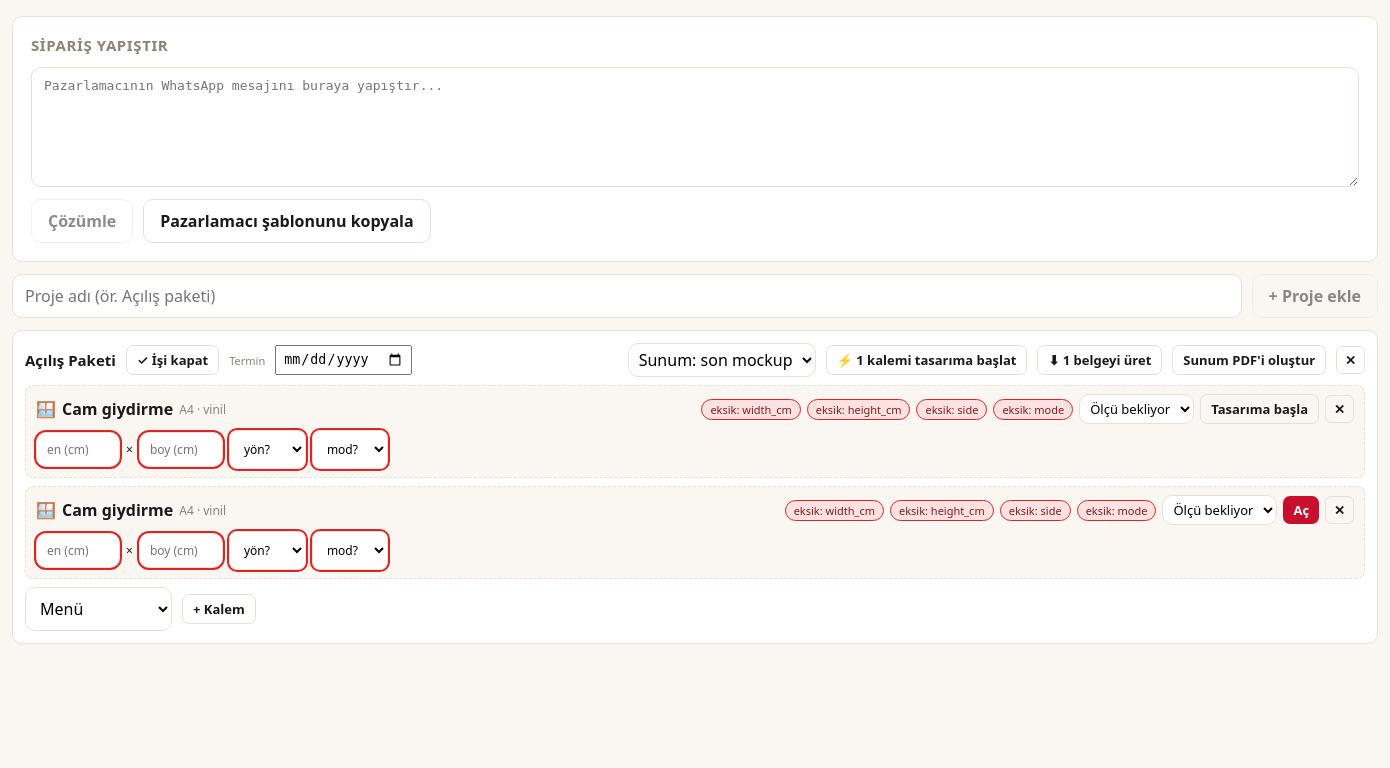
Test: toplu başlatma sonucu › ZATEN TASARIMDAKİ kalem panelde LİSTELENMEZ — gerçek sorunları gömerdi
Click the button "⚡ 1 kalemi tasarıma başlat".
click(927, 360)  # box [826,345,1028,375]
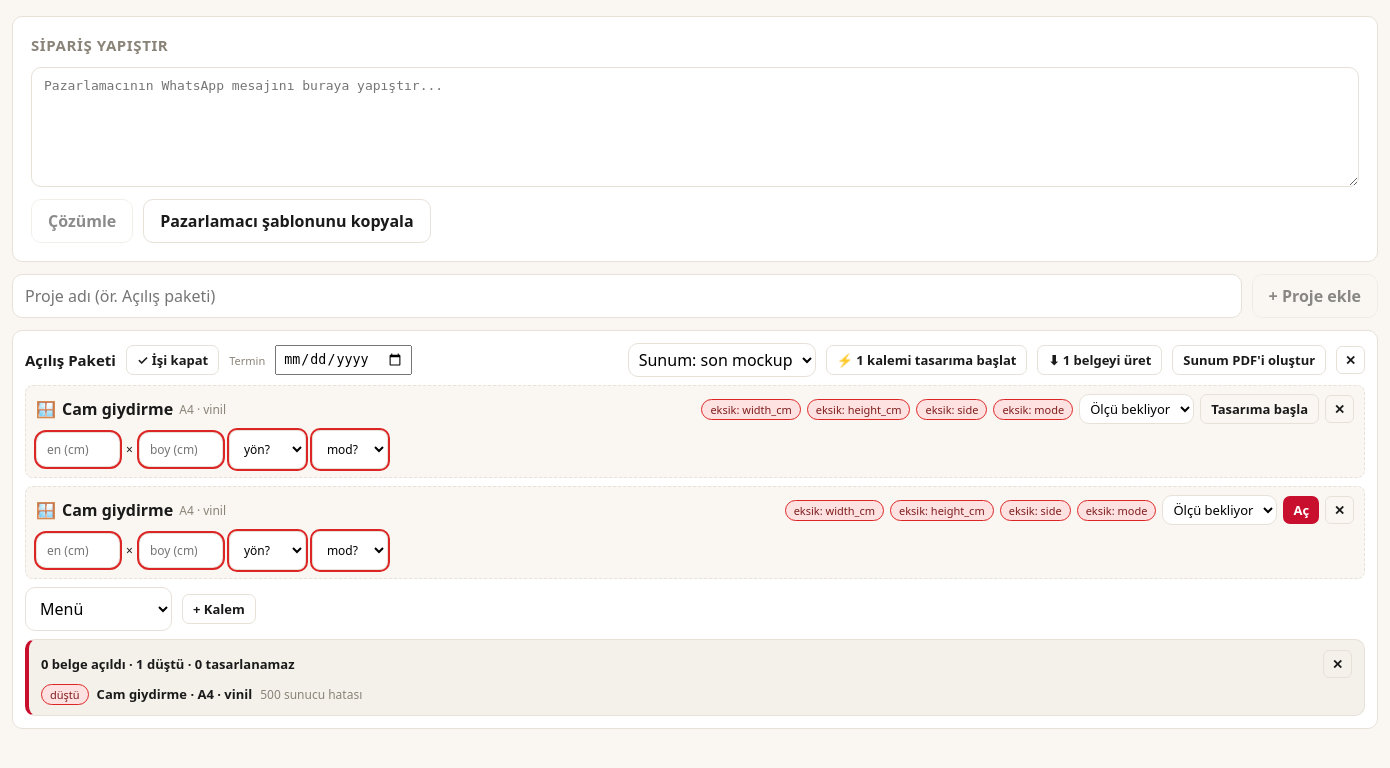
Now the number of elements with class "tur-sonucu-satir" is 1, box [41,684,362,705]
Now the element with class "tur-sonucu" shows "500 sunucu hatası", box [260,686,362,703]
